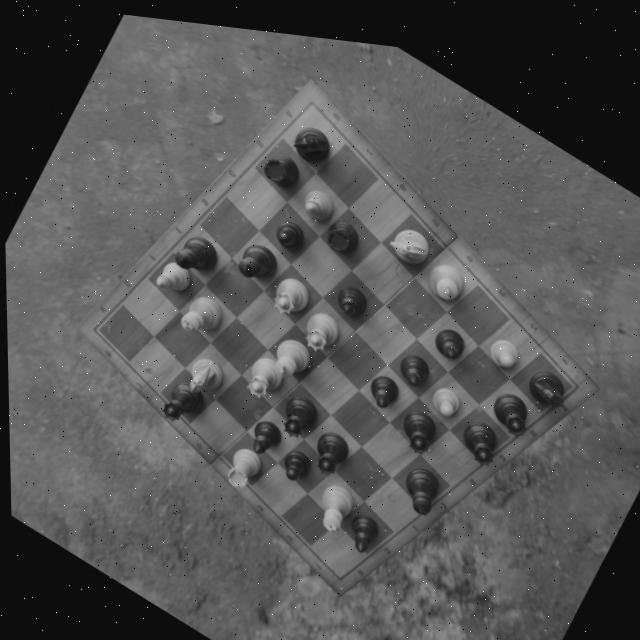chessboard: (95, 95, 575, 571)
